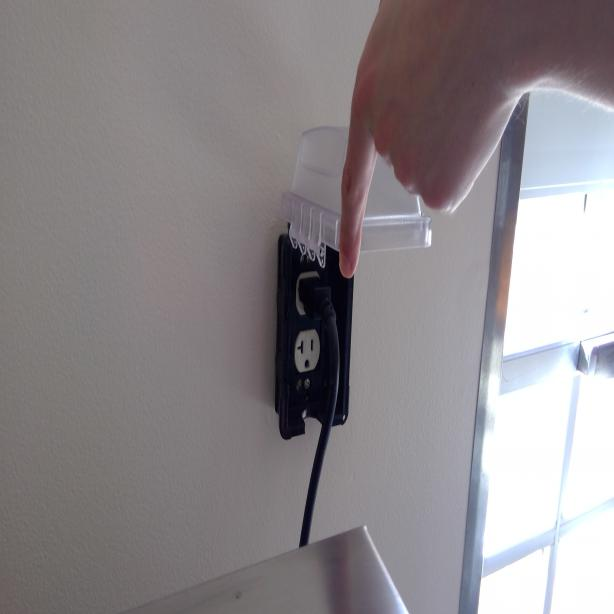typeb: (296, 330, 318, 372)
